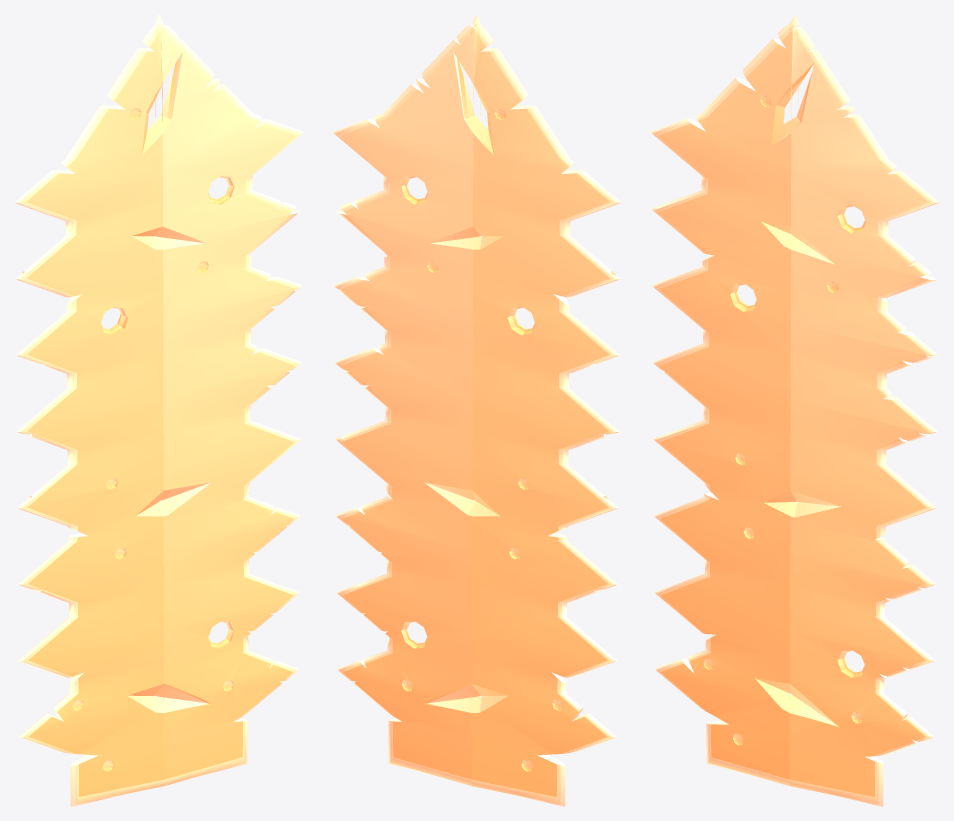
Rendered from wood_blade_bubbles_071.glb.
3 renders of one model, left to right at view 1: azimuth 30°, elevation 25°; view 2: azimuth 150°, elevation 25°; view 3: azimuth 330°, elevation 25°, orthographic.
Parts seen in each view (by area): view 1: wood_blade_bubbles.071; view 2: wood_blade_bubbles.071; view 3: wood_blade_bubbles.071.
Boxes of the visible parts, <box> form: wood_blade_bubbles.071: <box>14,14,303,806</box>; wood_blade_bubbles.071: <box>332,14,621,806</box>; wood_blade_bubbles.071: <box>650,14,939,806</box>.
Size of the model in its own units: 4.48 by 11.41 by 0.2879.
1 material, 1 textured.
